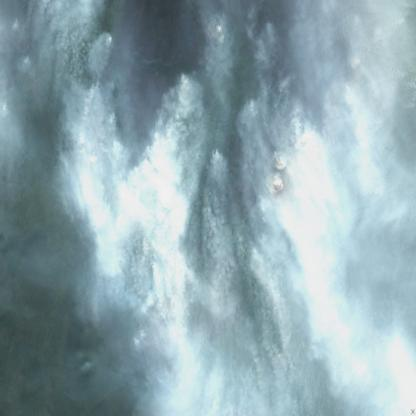fire: (238, 0, 400, 211), (70, 44, 214, 195), (121, 211, 222, 401)
